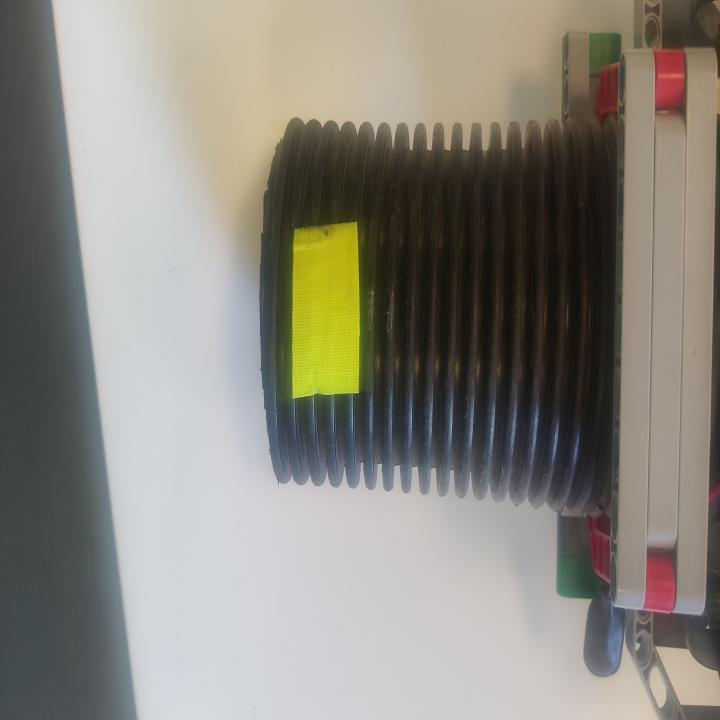robot-front: (263, 130, 594, 508)
